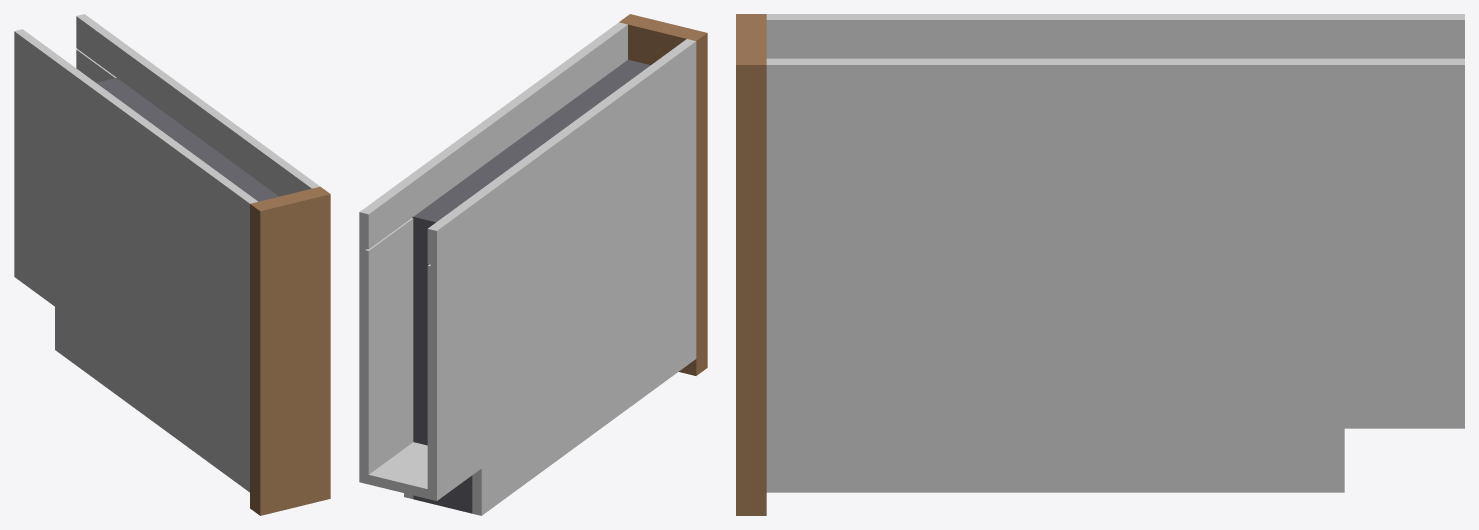
File: Kitchen Cabinets_15CM Base Wine Rack.obj
The picture shows the model from 3 angles, left to right: view 1: azimuth 30°, elevation 25°; view 2: azimuth 150°, elevation 25°; view 3: azimuth 270°, elevation 25°; orthographic projection. The views are drawn at different scales.
Visible parts, largest first — view 1: LH_Panel_(8), Worktop_(8), RH_Panel_(8), BackPanel_(8), Plinth_(8); view 2: LH_Panel_(8), RH_Panel_(8), Worktop_(8), BackPanel_(8), Bottom_Shelf_(8), Plinth_(8); view 3: RH_Panel_(8), LH_Panel_(8), Worktop_(8), Plinth_(8).
Boxes of the visible parts, x1,y1,x2,y2 form: LH_Panel_(8): (14, 29, 257, 492); Worktop_(8): (250, 186, 330, 515); RH_Panel_(8): (76, 14, 319, 196); BackPanel_(8): (96, 78, 278, 201); Plinth_(8): (14, 268, 54, 306); LH_Panel_(8): (427, 39, 696, 515); RH_Panel_(8): (359, 22, 627, 498); Worktop_(8): (619, 14, 707, 375); BackPanel_(8): (412, 59, 650, 223); Bottom_Shelf_(8): (413, 218, 472, 513); Plinth_(8): (359, 442, 481, 500); RH_Panel_(8): (766, 58, 1464, 492); LH_Panel_(8): (766, 14, 1464, 58); Worktop_(8): (736, 14, 766, 515); Plinth_(8): (1344, 415, 1464, 428).
Size of the model in its own units: 0.15 by 0.62 by 0.908.
